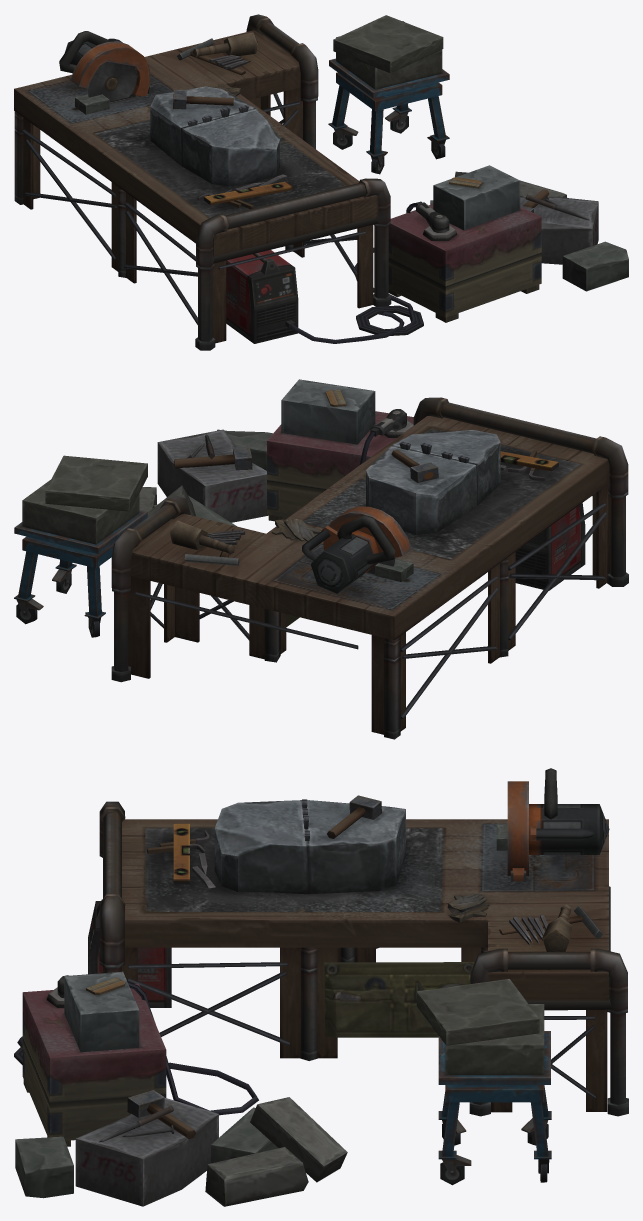
File: mf_stonecutter001.FBX
The picture shows the model from 3 angles, top to bottom: view 1: azimuth 30°, elevation 25°; view 2: azimuth 150°, elevation 25°; view 3: azimuth 270°, elevation 25°; orthographic projection. The views are drawn at different scales.
Parts seen in each view (by area): view 1: mf_stonecutter001; view 2: mf_stonecutter001; view 3: mf_stonecutter001.
Part boxes in pixels (x1,y1,x2,y2): mf_stonecutter001: (14,14,628,350); mf_stonecutter001: (14,379,628,739); mf_stonecutter001: (14,768,628,1206).
Size of the model in its own units: 3.74 by 1.51 by 3.81.
1 material, 1 textured.
